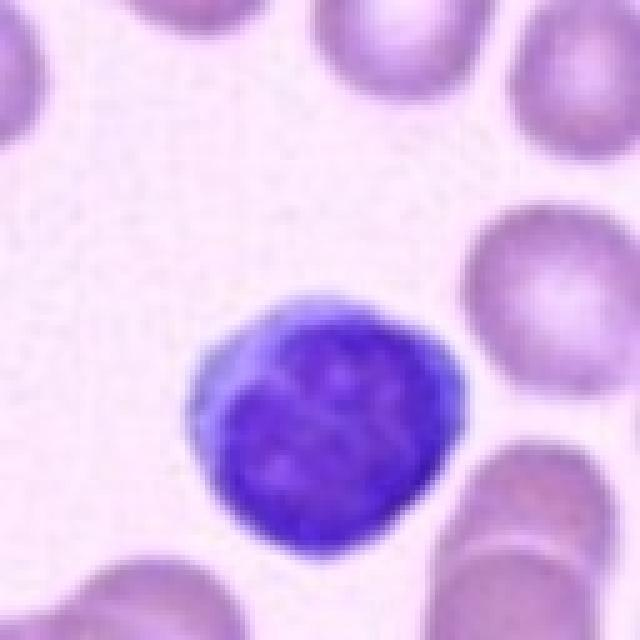lympho: (170, 286, 481, 565)
